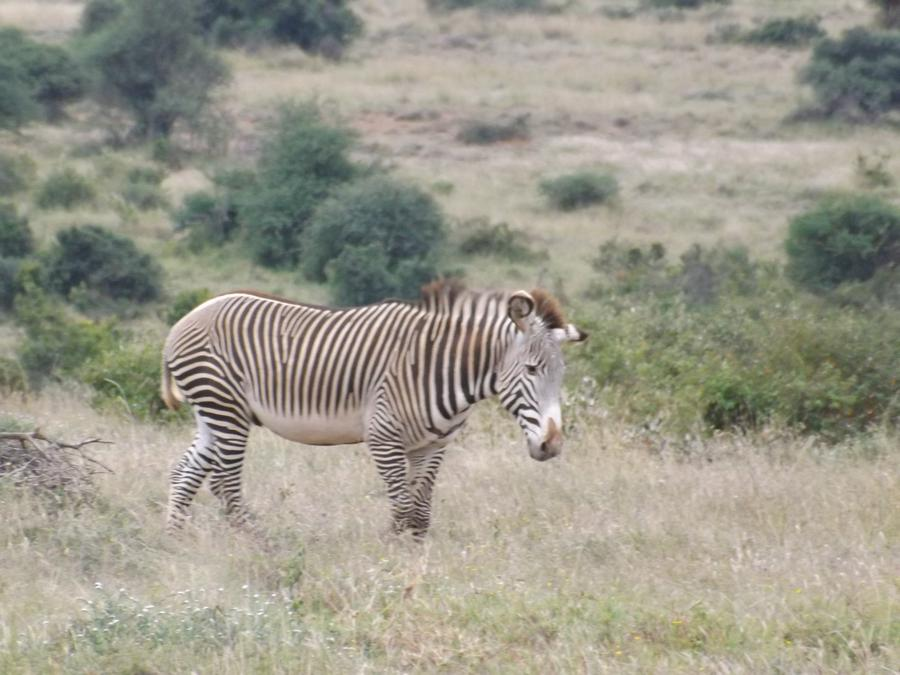zebra_grevys: (158, 277, 428, 457)
